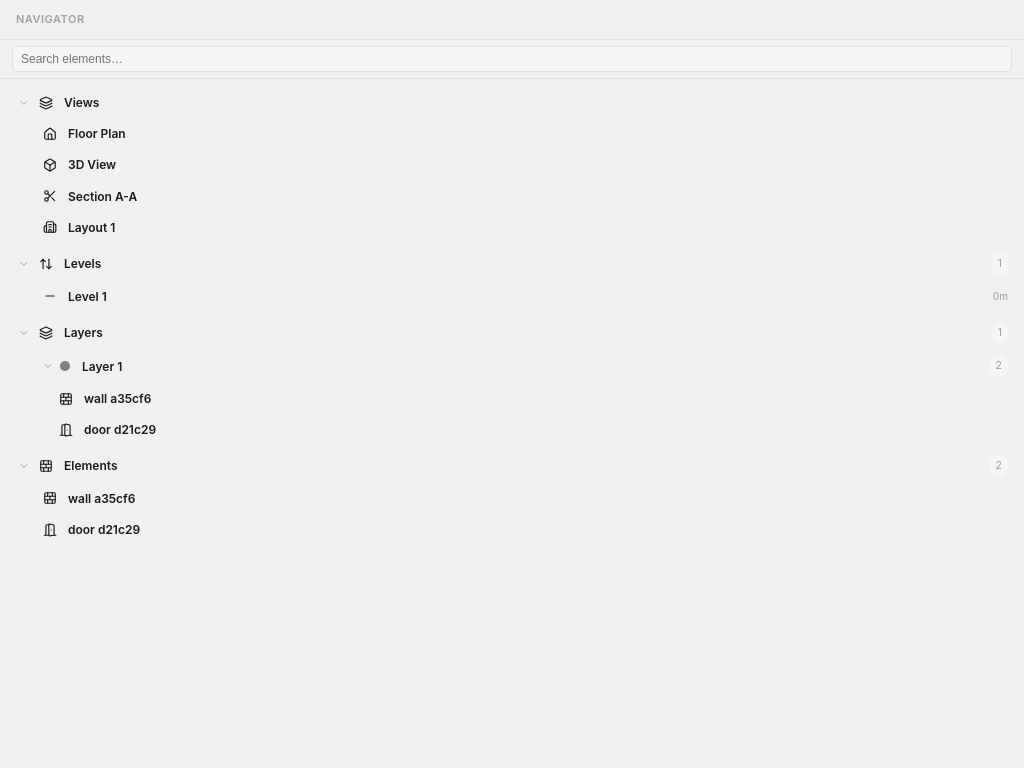
T-UI-004: Navigator › search hides non-matching elements
Type "wall" into the field with placeholder "Search elements…" at (512, 59), box [12,46,1012,72]
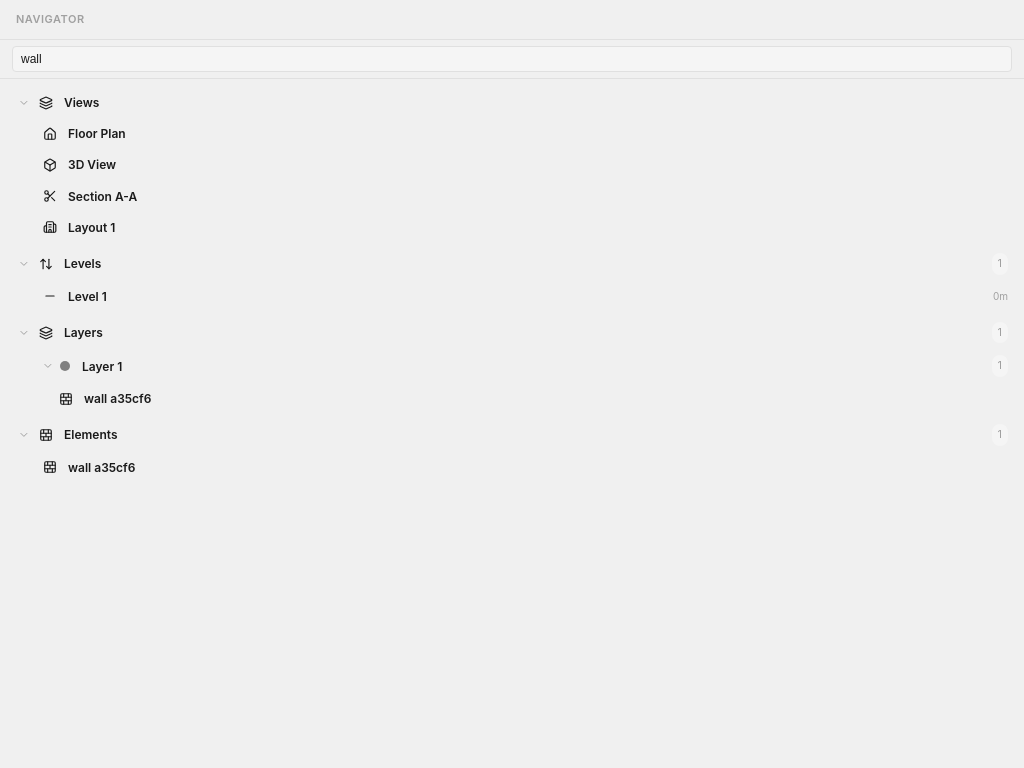
Result: the text "door d21c29" is not shown
